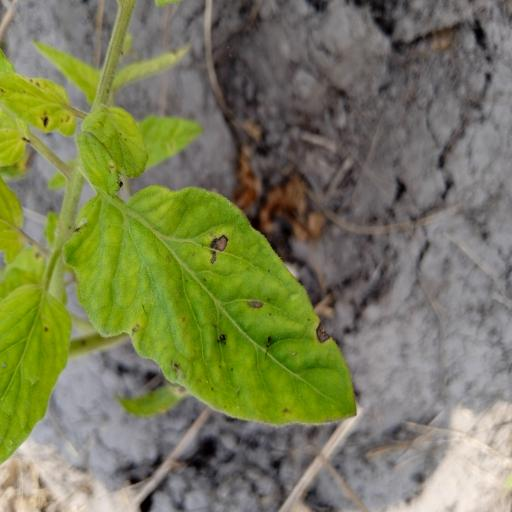Tomato_Brown_Spots: (64, 116, 361, 428)
